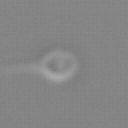normal: (1, 59, 41, 77)
